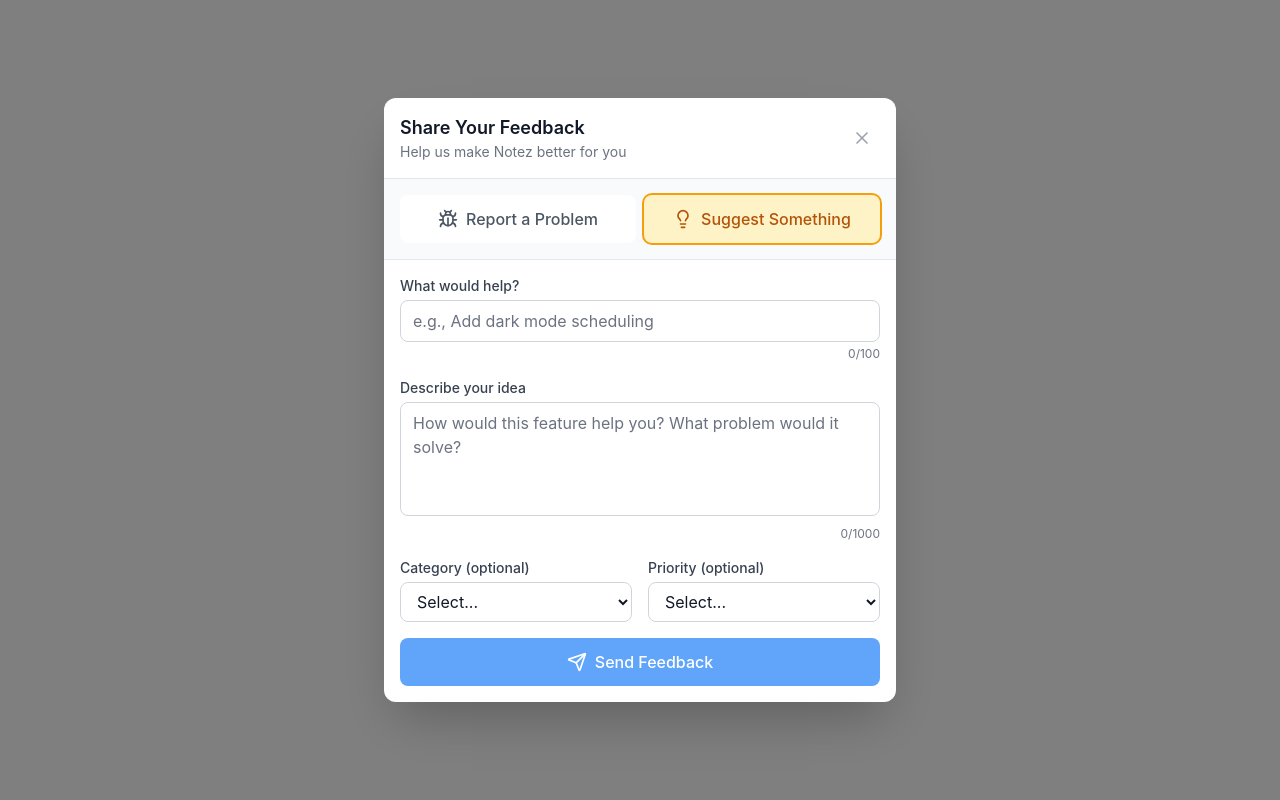
Test: FeedbackModal › should enable submit button when title and description are filled
The image size is (1280, 800).
Type "Test feature" into the field labelled "What would help?" at (640, 321), box [400,300,880,342]
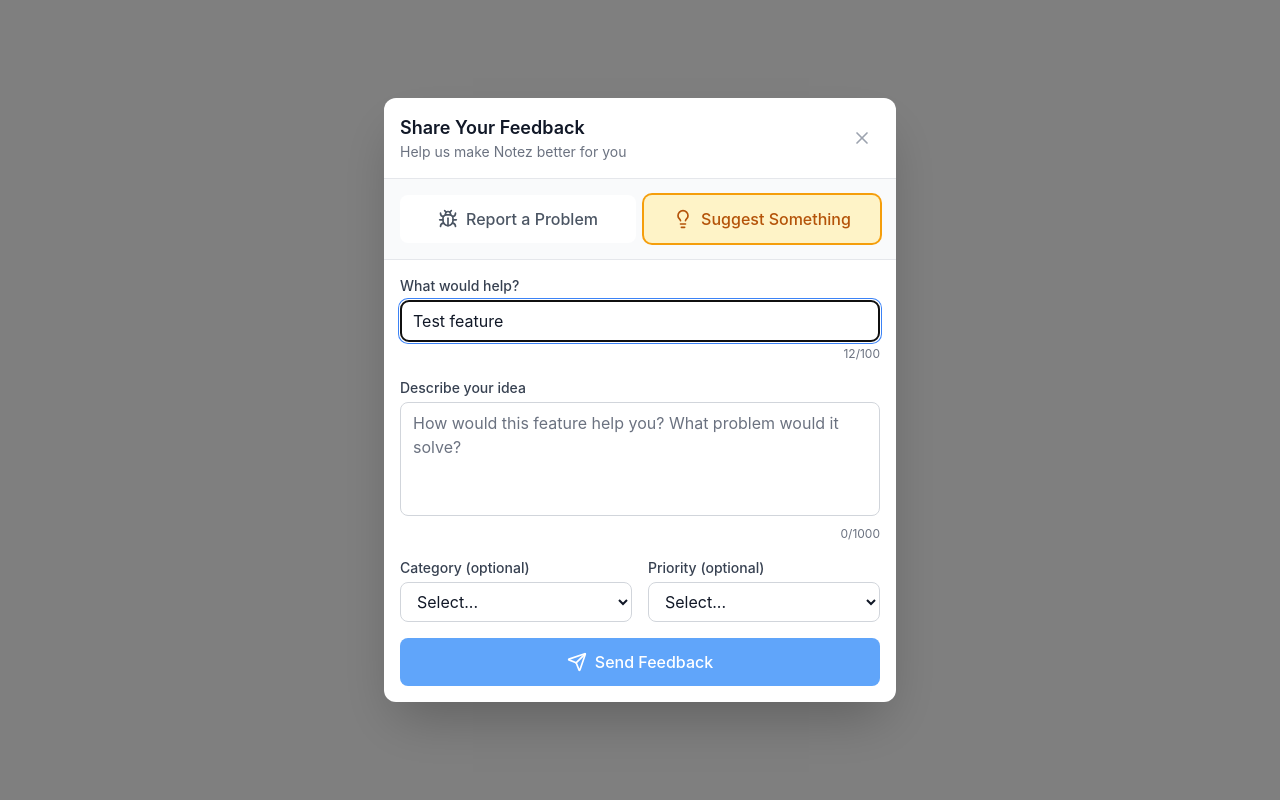
Type "A great feature idea" into the text box labelled "Describe your idea" at (640, 459), box [400,402,880,516]
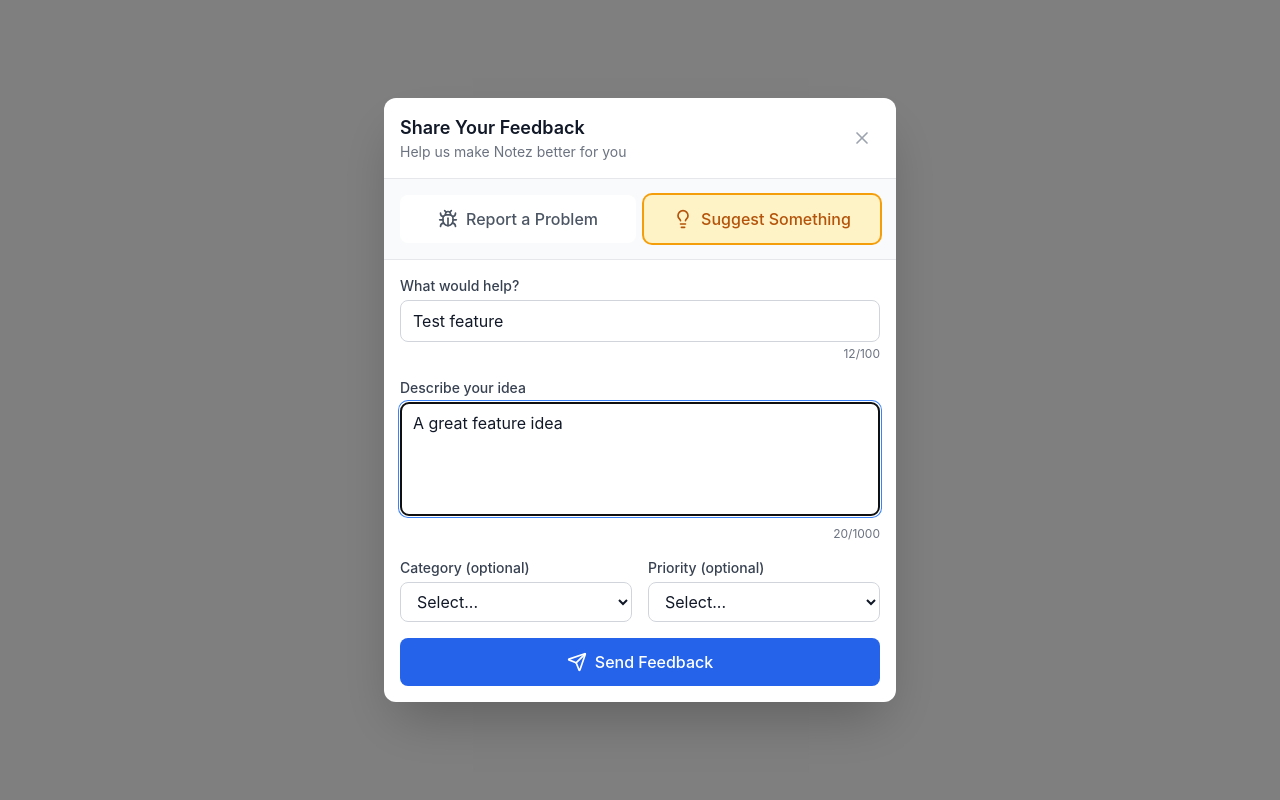
Now the button "Send Feedback" is enabled, box [400,638,880,686]
